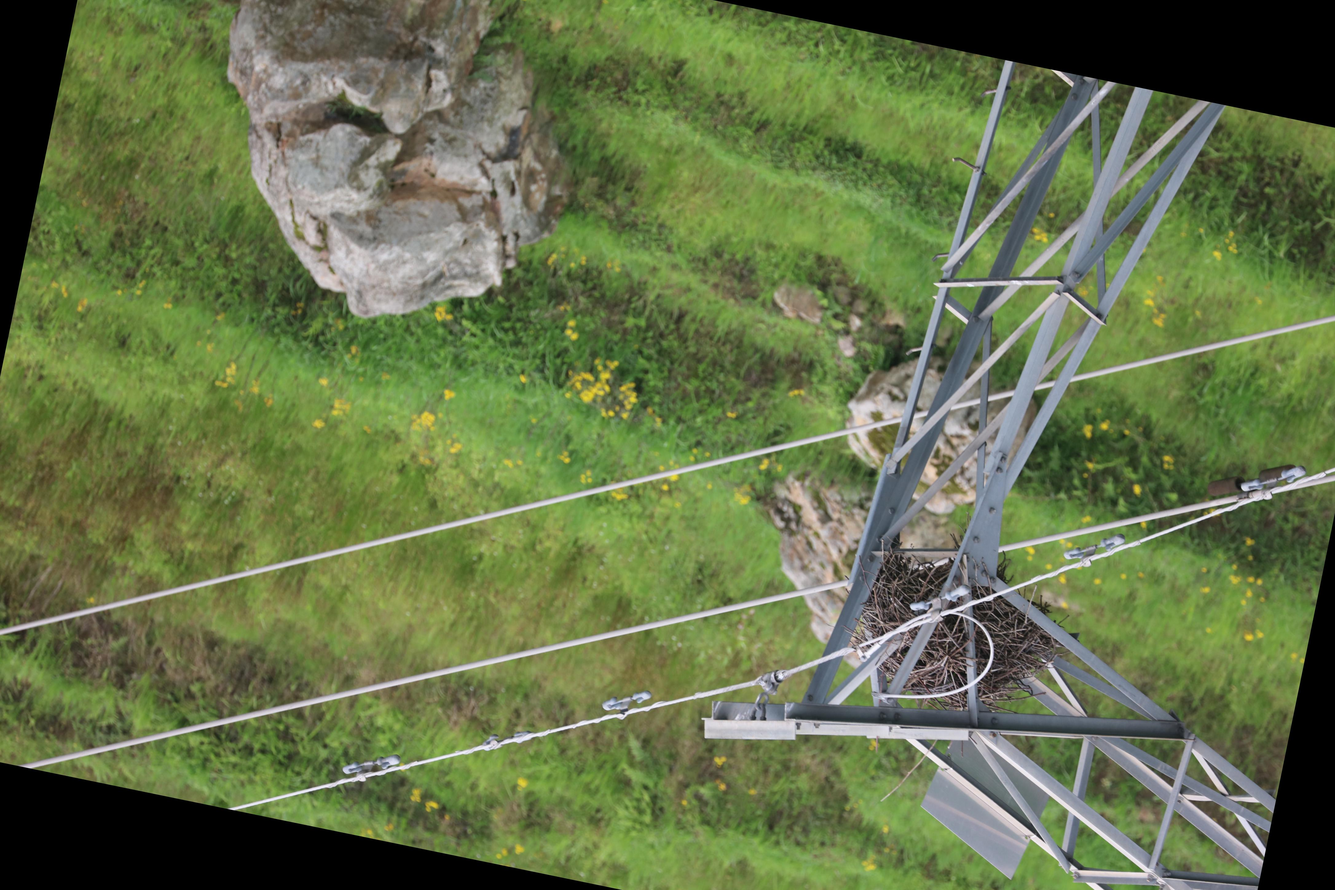damper: (1235, 450, 1312, 510), (903, 570, 975, 629), (1058, 520, 1129, 577), (337, 740, 405, 791), (596, 679, 656, 729)
damper_defect: (1199, 444, 1301, 516)
